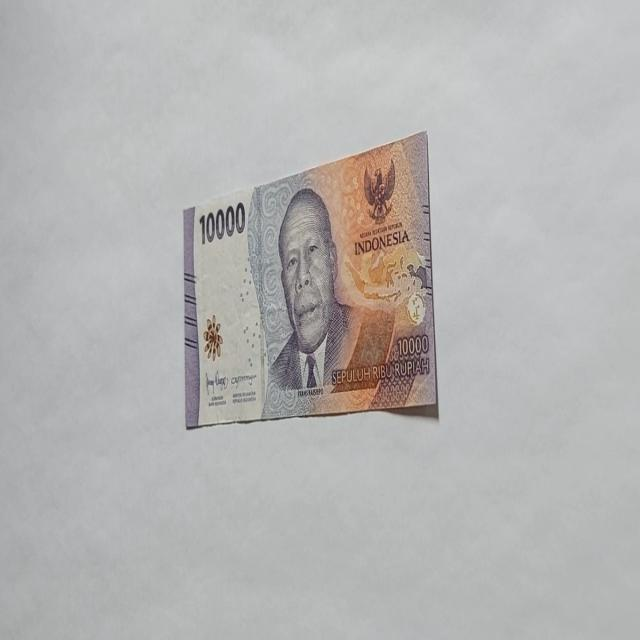sepuluh ribu rupiah: (182, 128, 440, 430)
